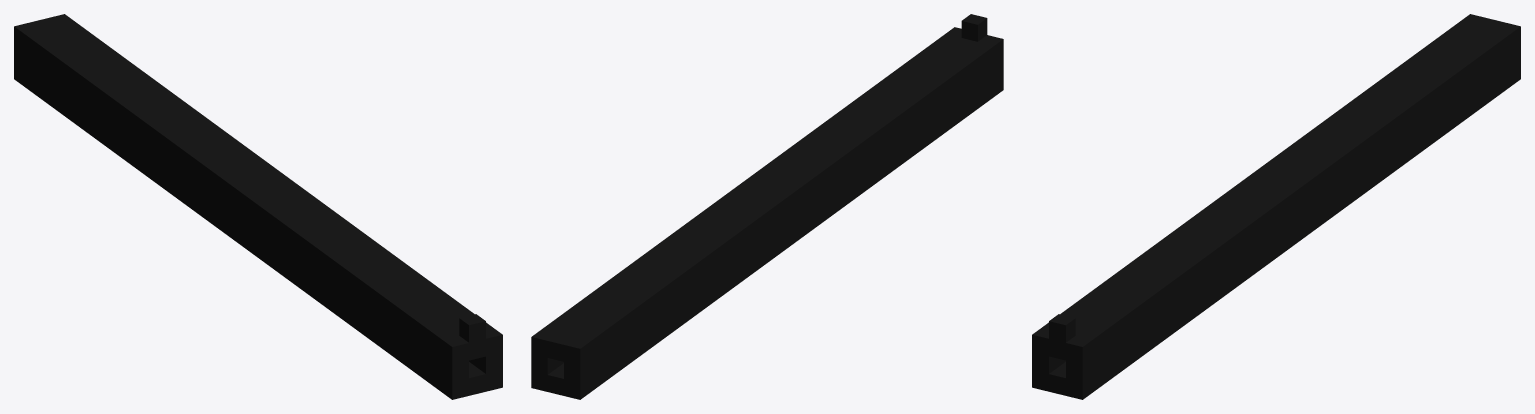
The model's file is TankPipa.obj.
3 views of the same model, side by side, from view 1: azimuth 30°, elevation 25°; view 2: azimuth 150°, elevation 25°; view 3: azimuth 330°, elevation 25° (orthographic). The views are drawn at different scales.
Bounding box in the file's own units: 3 × 4 × 45.
Materials: 1 (1 with a texture image).
